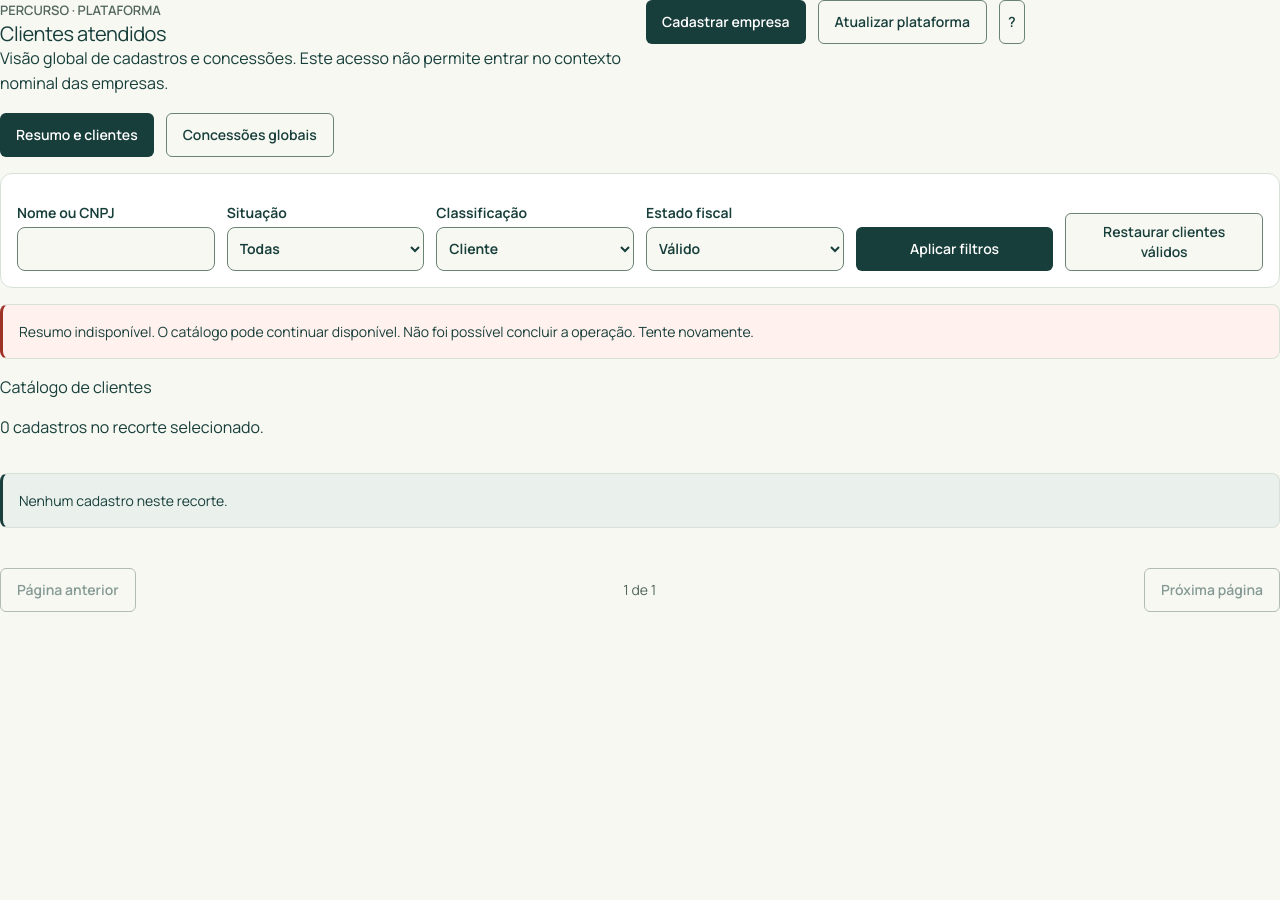
Test: abre a ajuda contextual na rota #/plataforma
This screenshot has width=1280, height=900.
Click the button named "Ajuda sobre Catálogo de clientes" at point(1012, 22), box left=999, top=0, right=1024, bottom=44
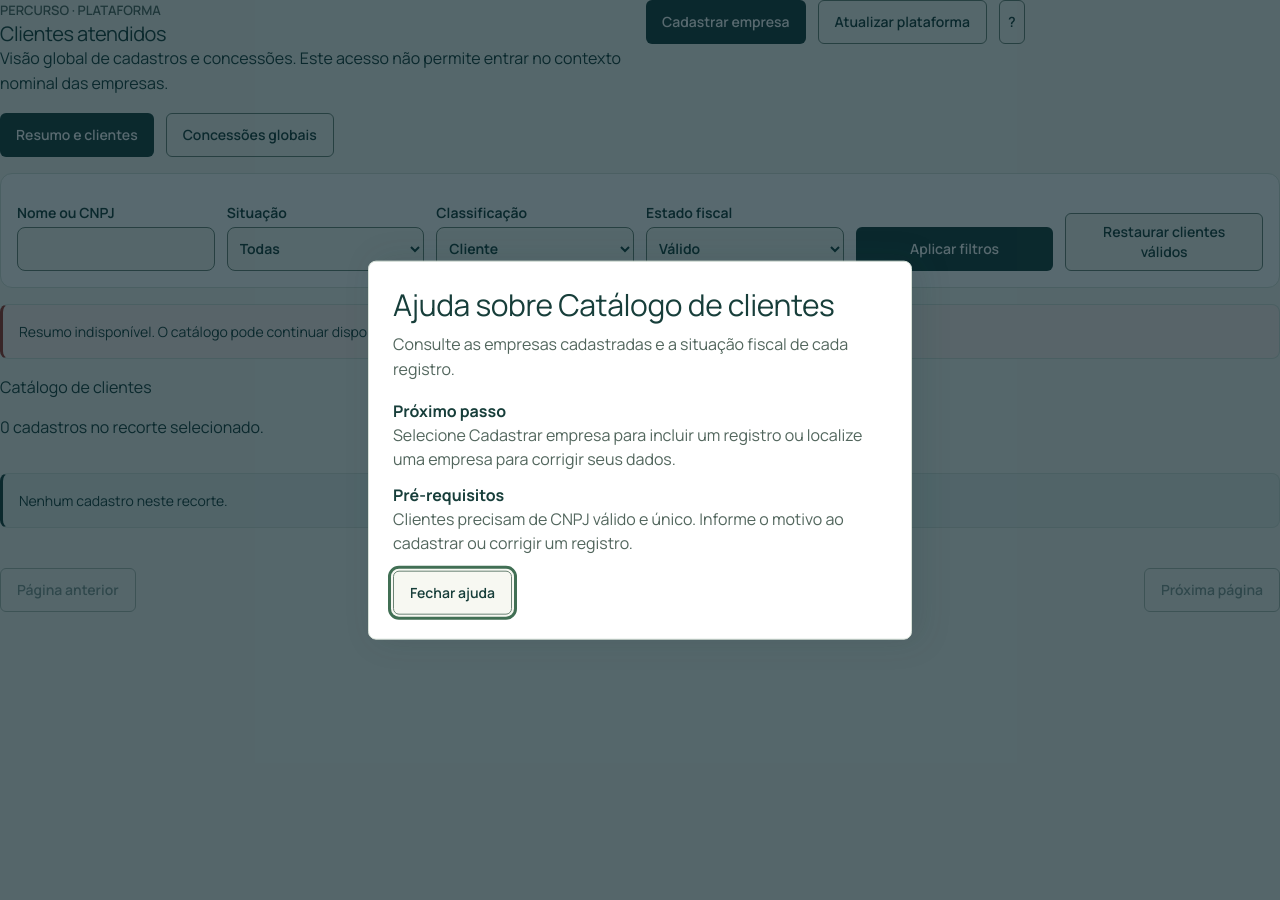
expect the text "Próximo passo" is shown: met, box left=393, top=399, right=506, bottom=421
expect the text "Pré-requisitos" is shown: met, box left=393, top=483, right=504, bottom=505
Click the button "Fechar ajuda" at point(453, 592), box left=393, top=570, right=512, bottom=614
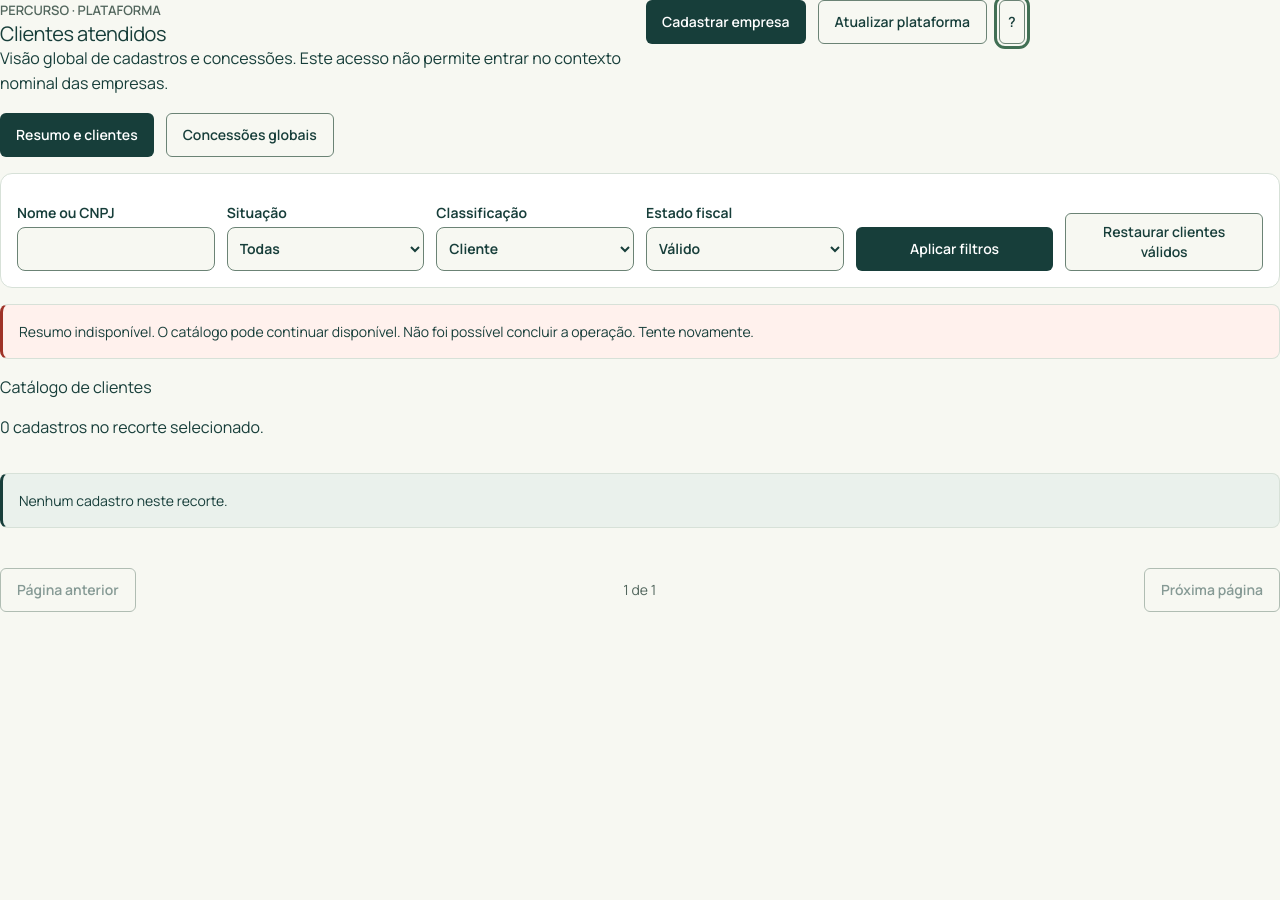
expect the heading "Ajuda sobre Catálogo de clientes" is gone: met
